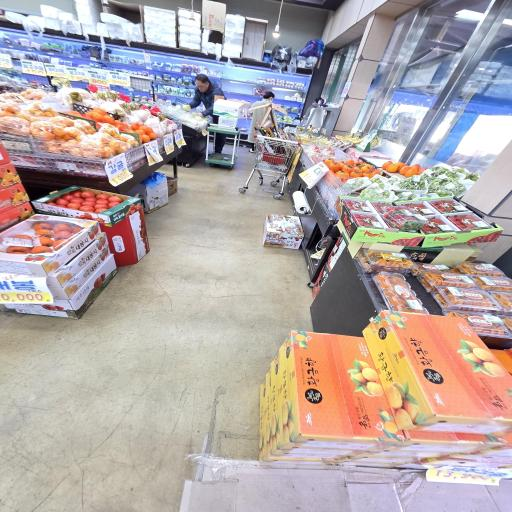fully_cart: (236, 133, 309, 201)
